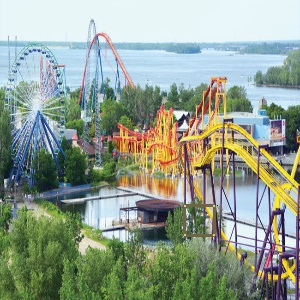square: (181, 203, 218, 238)
